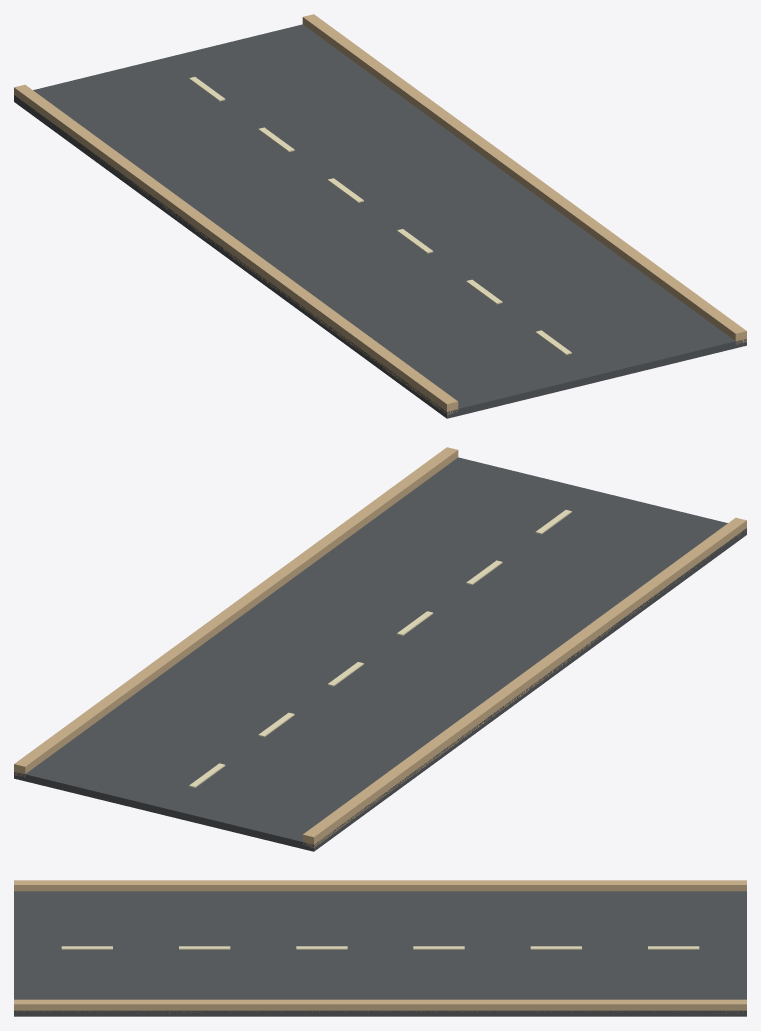
File: bh_cr_road_straight_01_lod0.glb
3 renders of one model, top to bottom at view 1: azimuth 30°, elevation 25°; view 2: azimuth 150°, elevation 25°; view 3: azimuth 270°, elevation 25°, orthographic. The views are drawn at different scales.
Parts seen in each view (by area): view 1: bh_cr_road_straight_01_slab, bh_cr_road_straight_01_curb_-3.85, bh_cr_road_straight_01_curb_3.85; view 2: bh_cr_road_straight_01_slab, bh_cr_road_straight_01_curb_-3.85, bh_cr_road_straight_01_curb_3.85; view 3: bh_cr_road_straight_01_slab, bh_cr_road_straight_01_curb_3.85, bh_cr_road_straight_01_curb_-3.85.
Part boxes in pixels (left/top/right/bottom): bh_cr_road_straight_01_slab: left=14, top=24, right=746, bottom=418; bh_cr_road_straight_01_curb_-3.85: left=14, top=84, right=458, bottom=415; bh_cr_road_straight_01_curb_3.85: left=302, top=14, right=746, bottom=344; bh_cr_road_straight_01_slab: left=14, top=457, right=746, bottom=851; bh_cr_road_straight_01_curb_-3.85: left=302, top=517, right=746, bottom=847; bh_cr_road_straight_01_curb_3.85: left=14, top=447, right=458, bottom=777; bh_cr_road_straight_01_slab: left=14, top=891, right=746, bottom=1016; bh_cr_road_straight_01_curb_3.85: left=14, top=999, right=746, bottom=1013; bh_cr_road_straight_01_curb_-3.85: left=14, top=880, right=746, bottom=891.
Size of the model in its own units: 8 by 0.37 by 20.
